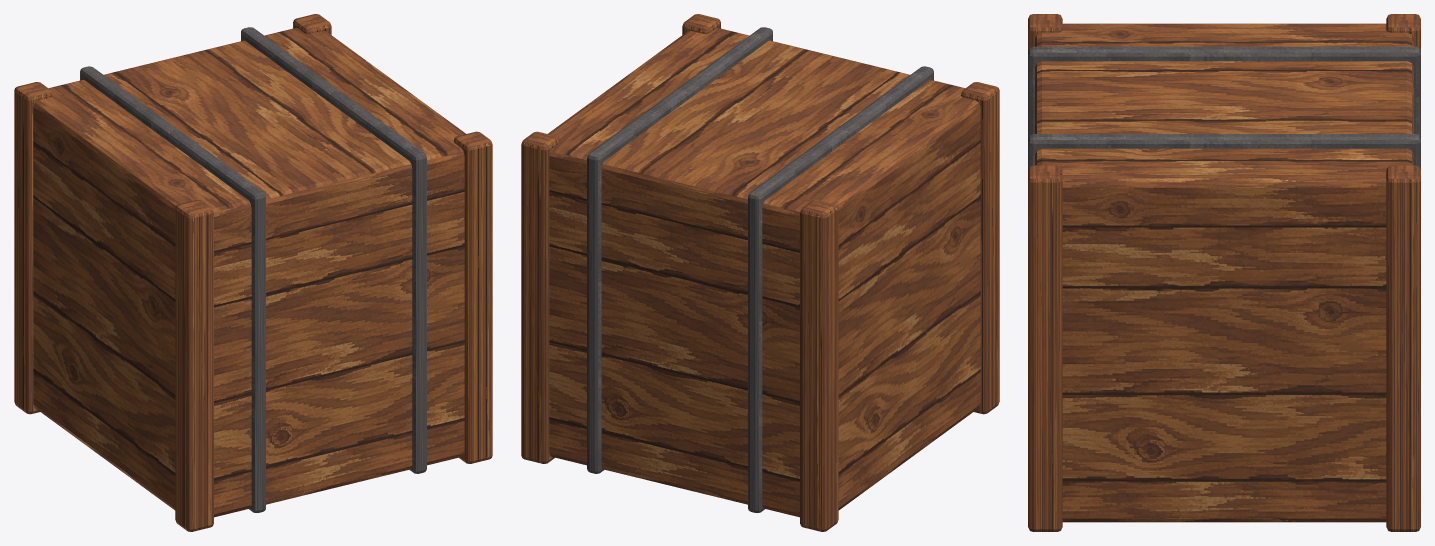
Rendered from pile-crated.glb.
3 views of the same model, side by side, from view 1: azimuth 30°, elevation 25°; view 2: azimuth 150°, elevation 25°; view 3: azimuth 270°, elevation 25° (orthographic). The views are drawn at different scales.
Parts seen in each view (by area): view 1: crate, batten.001, batten.003, strap, strap.001, batten.002, batten; view 2: crate, batten.002, batten, strap, strap.001, batten.001, batten.003; view 3: crate, batten.003, batten, strap, strap.001, batten.001, batten.002.
Part boxes in pixels (x1,y1,x2,y2): crate: [33, 28, 465, 517]; batten.001: [175, 199, 213, 531]; batten.003: [454, 131, 492, 463]; strap: [80, 66, 265, 512]; strap.001: [241, 27, 426, 473]; batten.002: [14, 82, 52, 414]; batten: [293, 14, 331, 34]; crate: [548, 28, 980, 517]; batten.002: [800, 199, 838, 531]; batten: [521, 131, 559, 463]; strap: [748, 66, 933, 512]; strap.001: [587, 27, 772, 473]; batten.001: [961, 82, 999, 414]; batten.003: [682, 14, 720, 34]; crate: [1035, 23, 1413, 522]; batten.003: [1028, 165, 1062, 531]; batten: [1386, 165, 1420, 531]; strap: [1028, 46, 1420, 138]; strap.001: [1028, 134, 1420, 169]; batten.001: [1028, 14, 1062, 50]; batten.002: [1386, 14, 1420, 50].
Size of the model in its own units: 1.14 by 1.15 by 1.14.
Materials: 3 (3 with a texture image).
